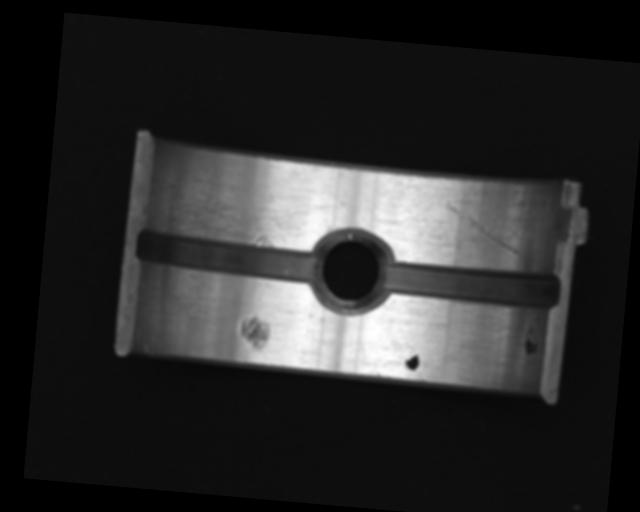blot: (522, 325, 539, 357), (404, 349, 421, 372)
bruise: (238, 314, 271, 351)
gap: (132, 226, 322, 285), (380, 258, 560, 310)
hole: (312, 224, 396, 317)
nick: (440, 199, 527, 257)
scratch: (152, 158, 327, 254)
